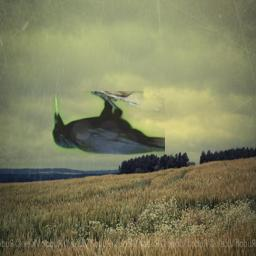Crow: (52, 91, 165, 155)
